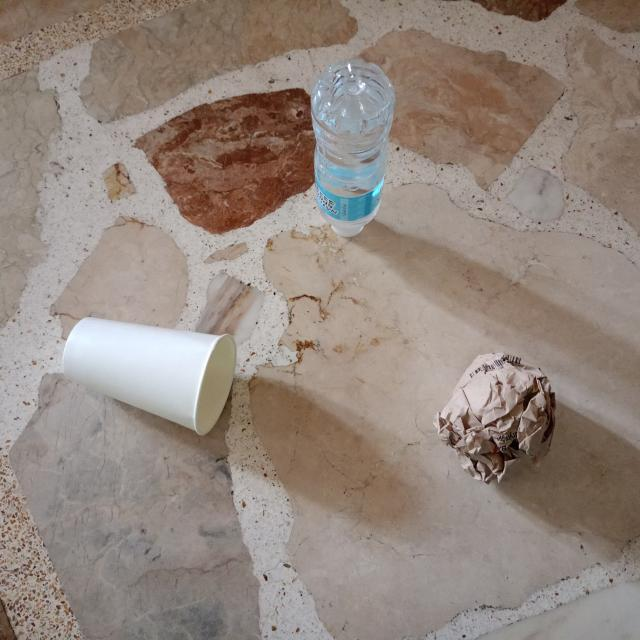recyclable waste: (50, 306, 246, 454), (427, 338, 571, 496), (296, 52, 408, 242)
